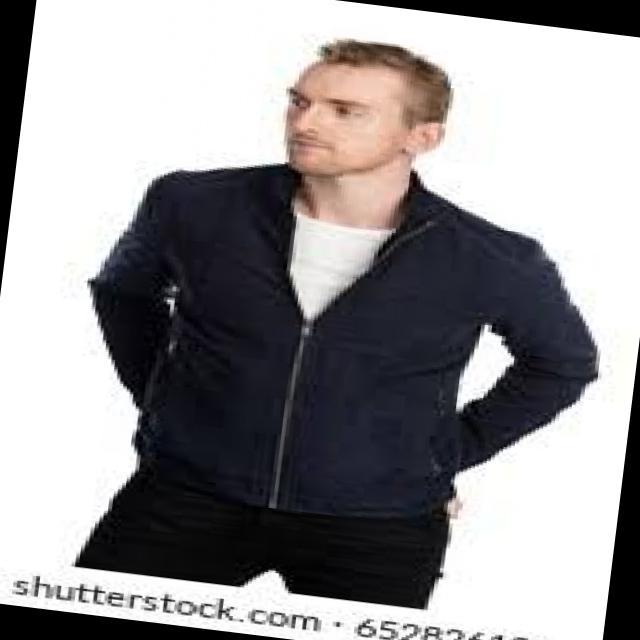jacket: (83, 160, 605, 515)
short sleeve shirt: (291, 203, 401, 318)
trousers: (65, 478, 459, 609)
